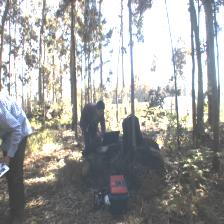trunktrack_idkeyframe: (207, 46, 220, 150), (134, 50, 142, 150), (72, 62, 82, 119), (203, 61, 209, 133), (181, 97, 185, 144)
